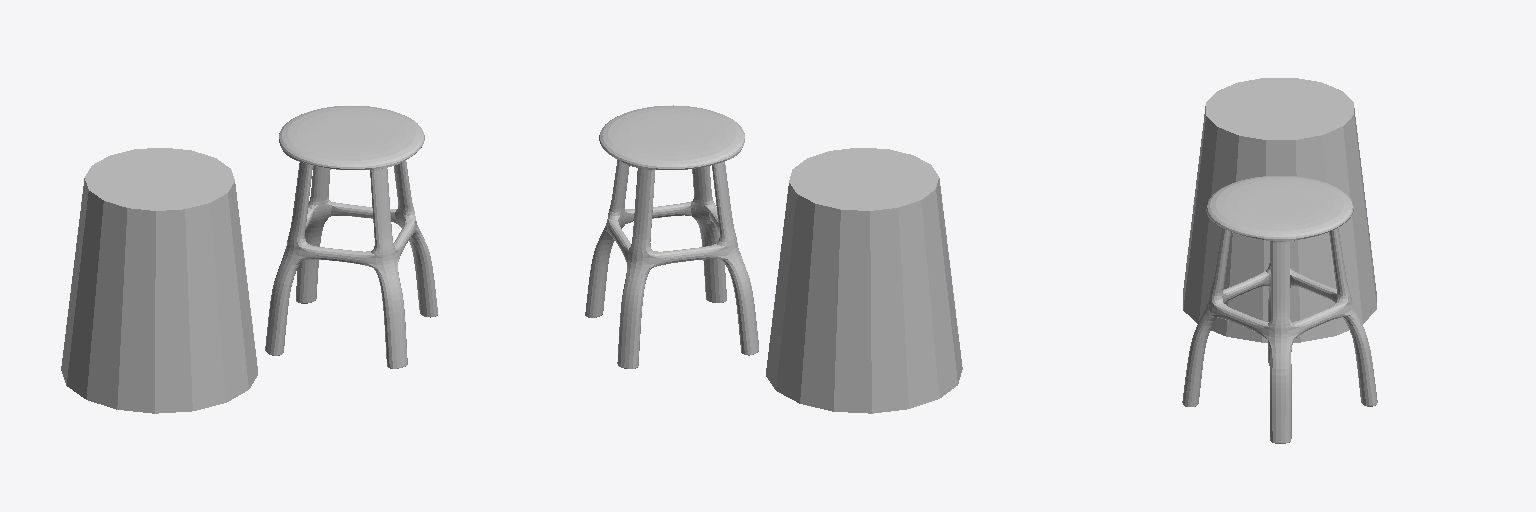
File: stool_collider.obj
3 renders of one model, left to right at view 1: azimuth 30°, elevation 25°; view 2: azimuth 150°, elevation 25°; view 3: azimuth 270°, elevation 25°, orthographic.
Parts seen in each view (by area): view 1: Circle.001, Circle; view 2: Circle.001, Circle; view 3: Circle.001, Circle.
Boxes of the visible parts, box(x1,y1,x2,y2) form: Circle.001: box(61, 148, 257, 413); Circle: box(265, 106, 437, 368); Circle.001: box(766, 148, 962, 413); Circle: box(585, 105, 758, 368); Circle.001: box(1183, 78, 1376, 342); Circle: box(1182, 176, 1377, 443).
Bounding box in the file's own units: 5.52 × 2.93 × 2.59.